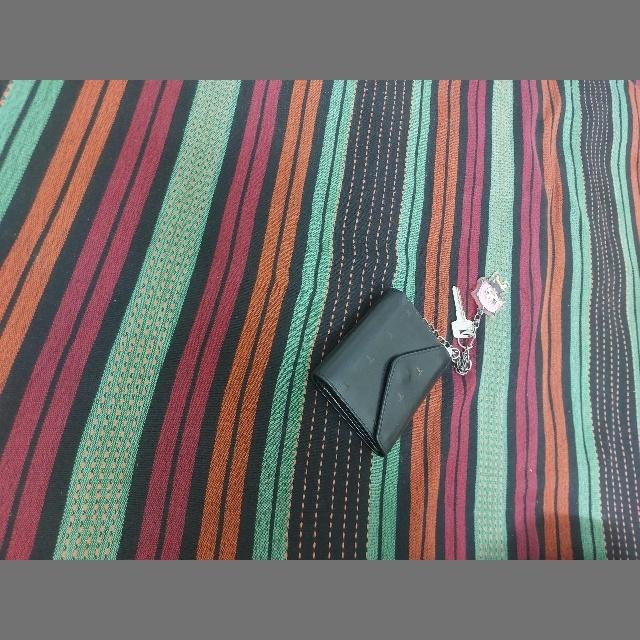Wallet: (315, 289, 451, 457)
